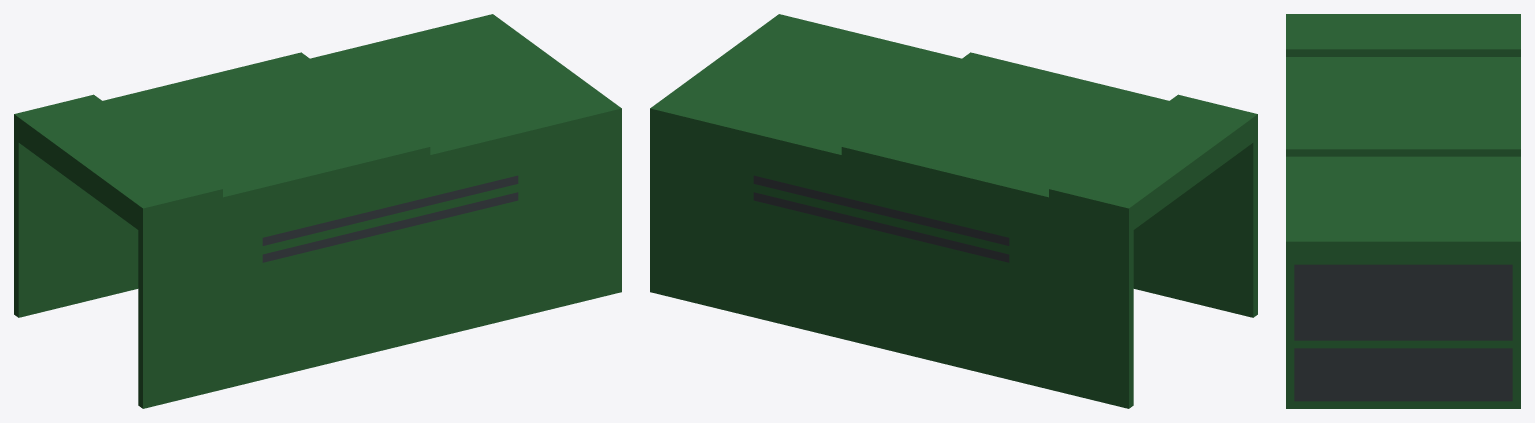
The model's file is tractor_bonnet.glb.
3 renders of one model, left to right at view 1: azimuth 30°, elevation 25°; view 2: azimuth 150°, elevation 25°; view 3: azimuth 270°, elevation 25°, orthographic. The views are drawn at different scales.
Visible parts, largest first — view 1: body:compound; view 2: body:compound; view 3: body:compound.
Boxes of the visible parts, box(x1,y1,x2,y2) form: body:compound: box(14, 14, 621, 408); body:compound: box(650, 14, 1257, 408); body:compound: box(1286, 14, 1520, 408).
Size of the model in its own units: 1.88 by 0.75 by 0.875.
